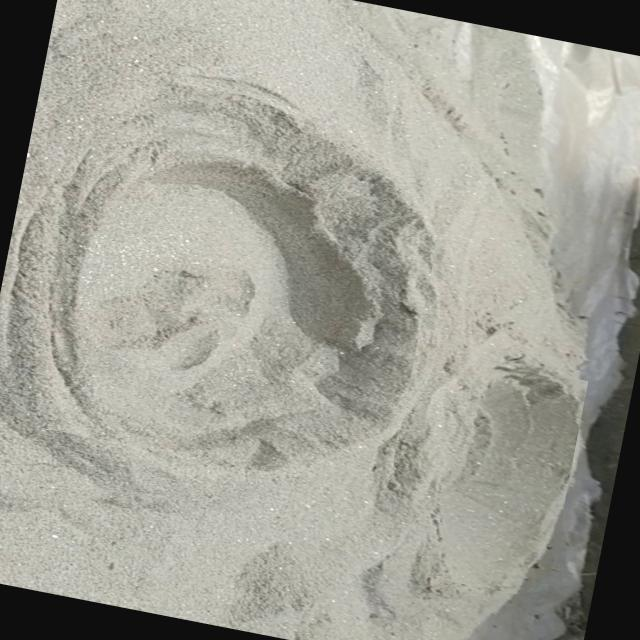C20: (50, 129, 429, 470), (436, 373, 578, 589), (426, 283, 428, 287)
